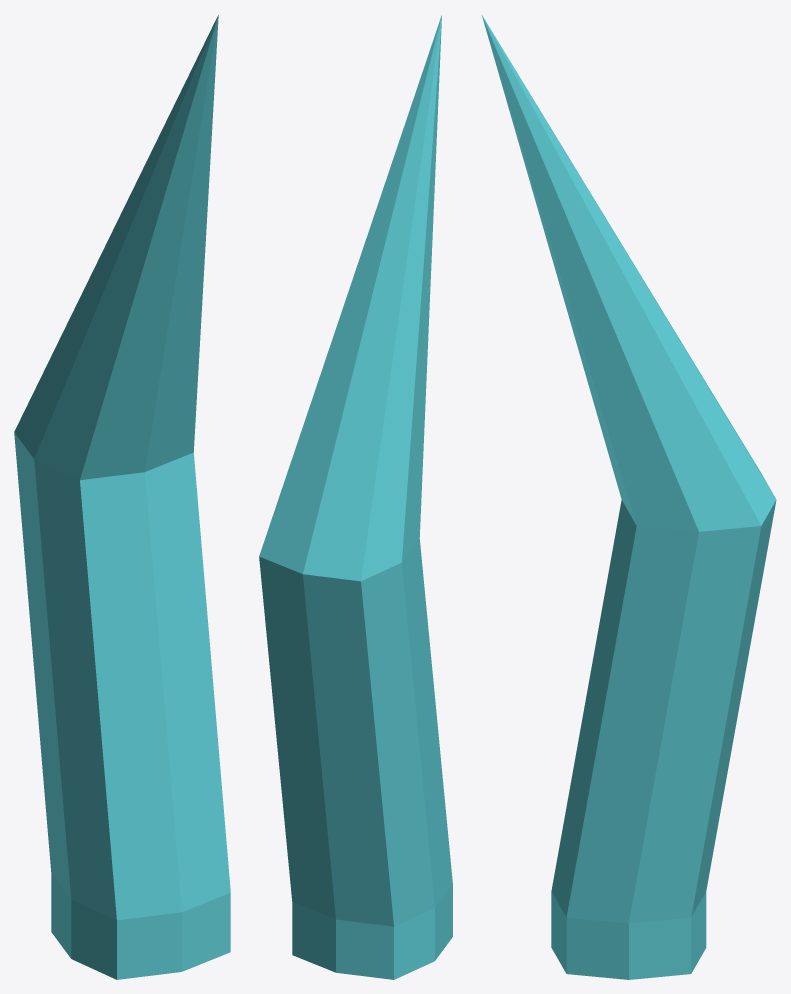
Rendered from StormvineStage1.fbx.
3 views of the same model, side by side, from view 1: azimuth 30°, elevation 25°; view 2: azimuth 150°, elevation 25°; view 3: azimuth 270°, elevation 25° (orthographic). The views are drawn at different scales.
Parts seen in each view (by area): view 1: Cube.002; view 2: Cube.002; view 3: Cube.002.
Part boxes in pixels (bbox=[...]): Cube.002: bbox=[14, 15, 230, 979]; Cube.002: bbox=[259, 15, 452, 979]; Cube.002: bbox=[482, 15, 776, 979].
Bounding box in the file's own units: 6.91 × 46.67 × 13.37.
